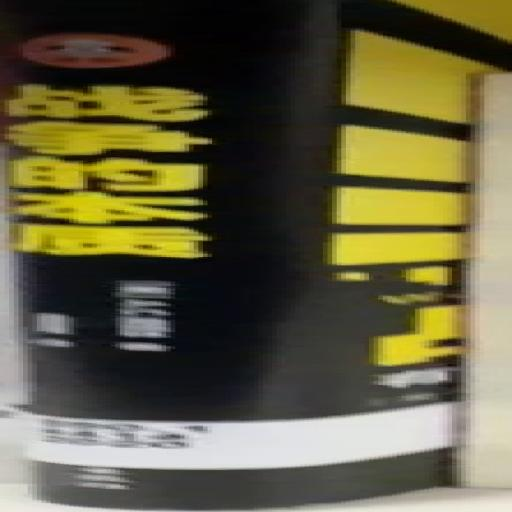book: (1, 1, 508, 512)
